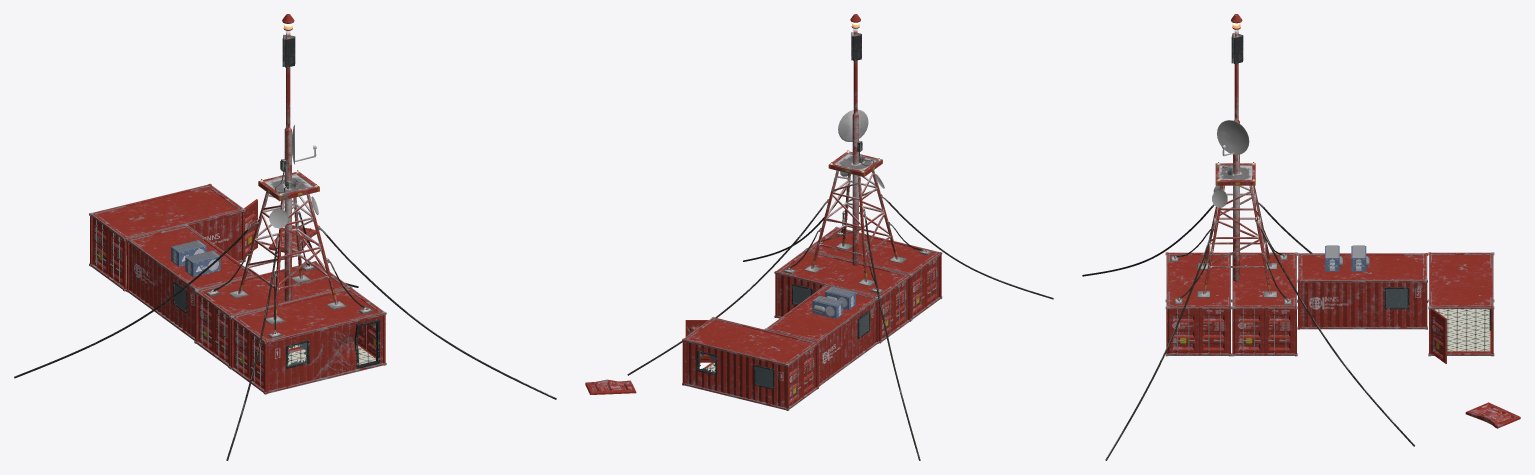
Rendered from diplom_v2.glb.
The picture shows the model from 3 angles, left to right: view 1: azimuth 30°, elevation 25°; view 2: azimuth 150°, elevation 25°; view 3: azimuth 270°, elevation 25°; orthographic projection. The views are drawn at different scales.
Visible parts, largest first — view 1: Object_3, Object_5, Object_6, Object_4, Object_7; view 2: Object_3, Object_5, Object_4, Object_6, Object_7; view 3: Object_3, Object_4, Object_5, Object_6, Object_7.
Part boxes in pixels (<box>): Object_3: <box>89,183,386,394</box>; Object_5: <box>14,14,358,460</box>; Object_6: <box>206,35,556,399</box>; Object_4: <box>92,199,375,363</box>; Object_7: <box>210,145,319,333</box>; Object_3: <box>587,226,942,410</box>; Object_5: <box>627,14,1053,460</box>; Object_4: <box>585,279,907,406</box>; Object_6: <box>743,32,931,293</box>; Object_7: <box>787,151,925,289</box>; Object_3: <box>1165,245,1514,423</box>; Object_4: <box>1168,247,1520,428</box>; Object_5: <box>1082,14,1414,446</box>; Object_6: <box>1105,33,1291,460</box>; Object_7: <box>1174,145,1289,301</box>.
Size of the model in its own units: 21.77 by 22.01 by 23.79.
Materials: 2 (2 with a texture image).
